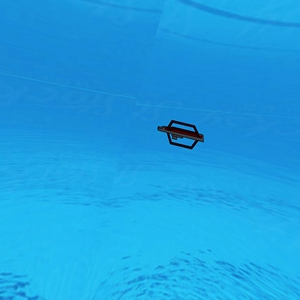submarine: (158, 118, 209, 149)
